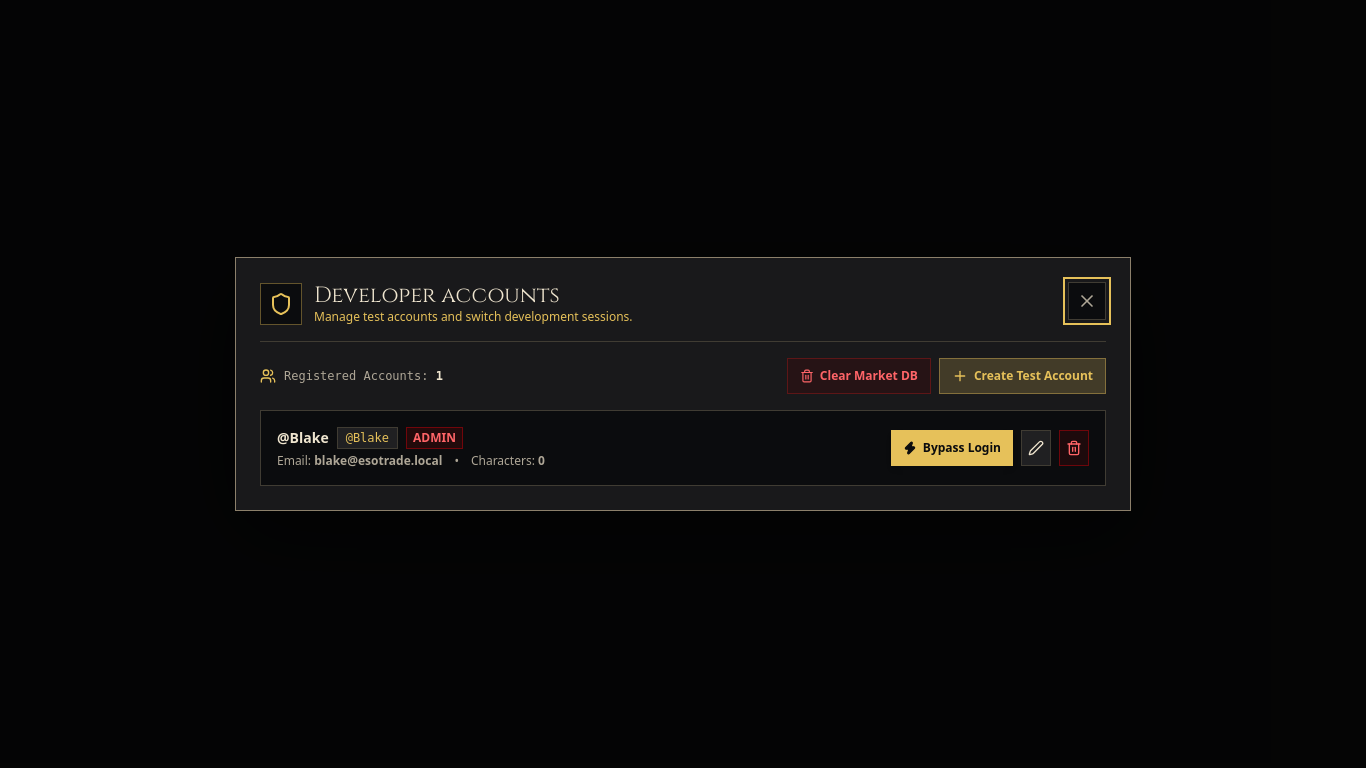
Test: developer and fallback presentation › provides distinct account action names and labels every existing edit field
Click the button named "Edit account @Blake". click: (1036, 448)
box: x1=1021 y1=430 x2=1051 y2=466
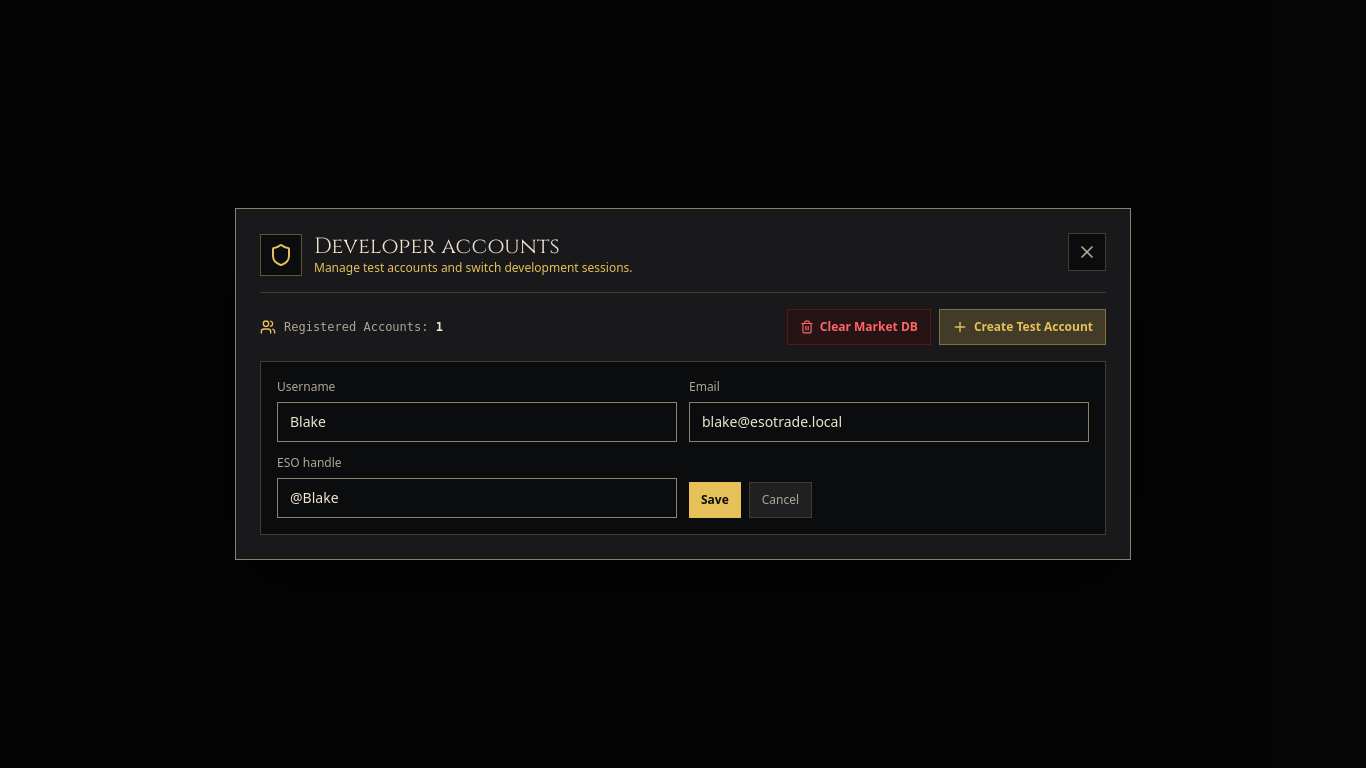
Expected: the field labelled "Username" holds "Blake", x1=277 y1=402 x2=677 y2=442
Expected: the field labelled "Email" holds "blake@esotrade.local", x1=689 y1=402 x2=1089 y2=442
Expected: the field labelled "ESO handle" holds "@Blake", x1=277 y1=478 x2=677 y2=518
Click the button "Cancel". click: (780, 500)
box: x1=749 y1=482 x2=812 y2=518
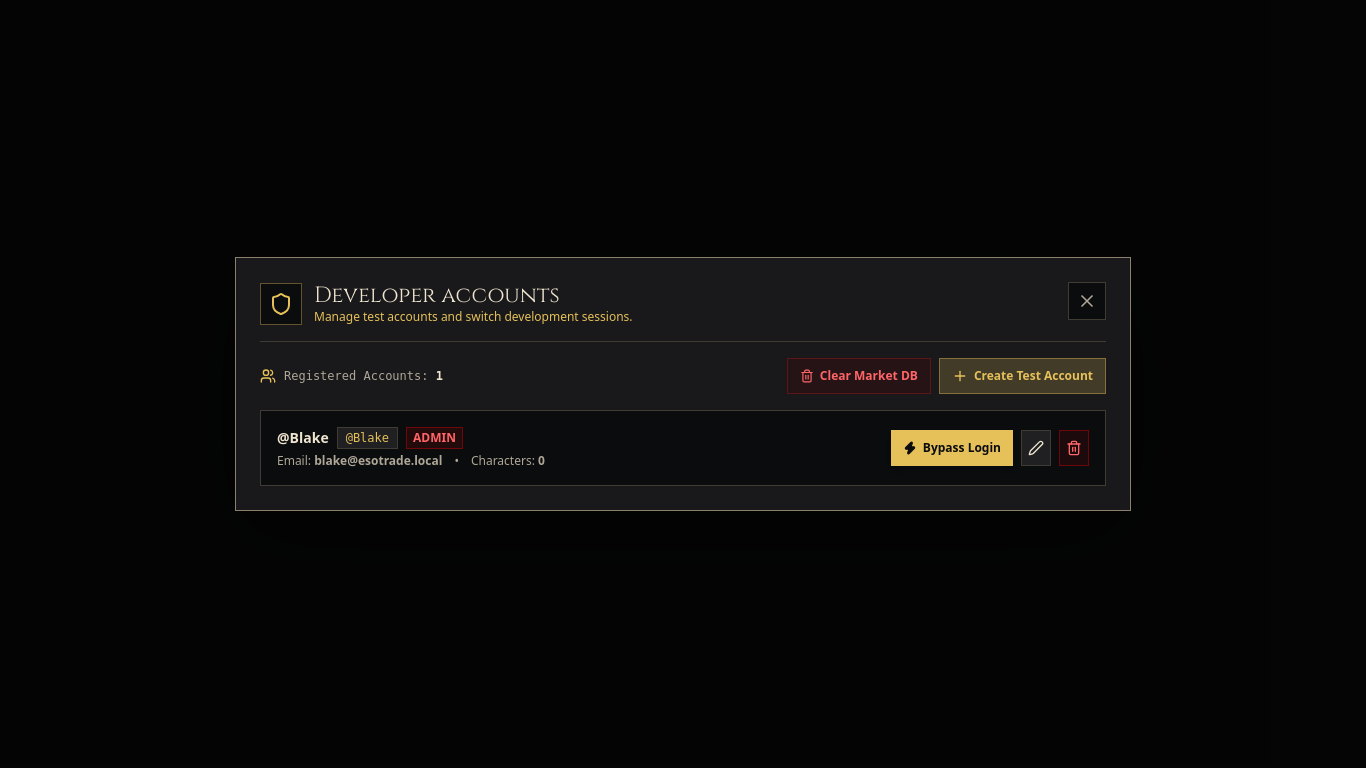
Expected: the button named "Delete account @Blake" is shown, x1=1059 y1=430 x2=1089 y2=466
